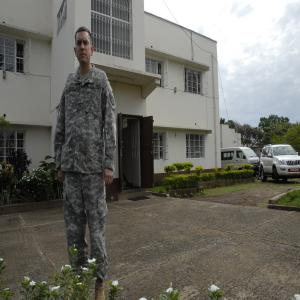Vehicle-registration-plate: (291, 169, 300, 172)
